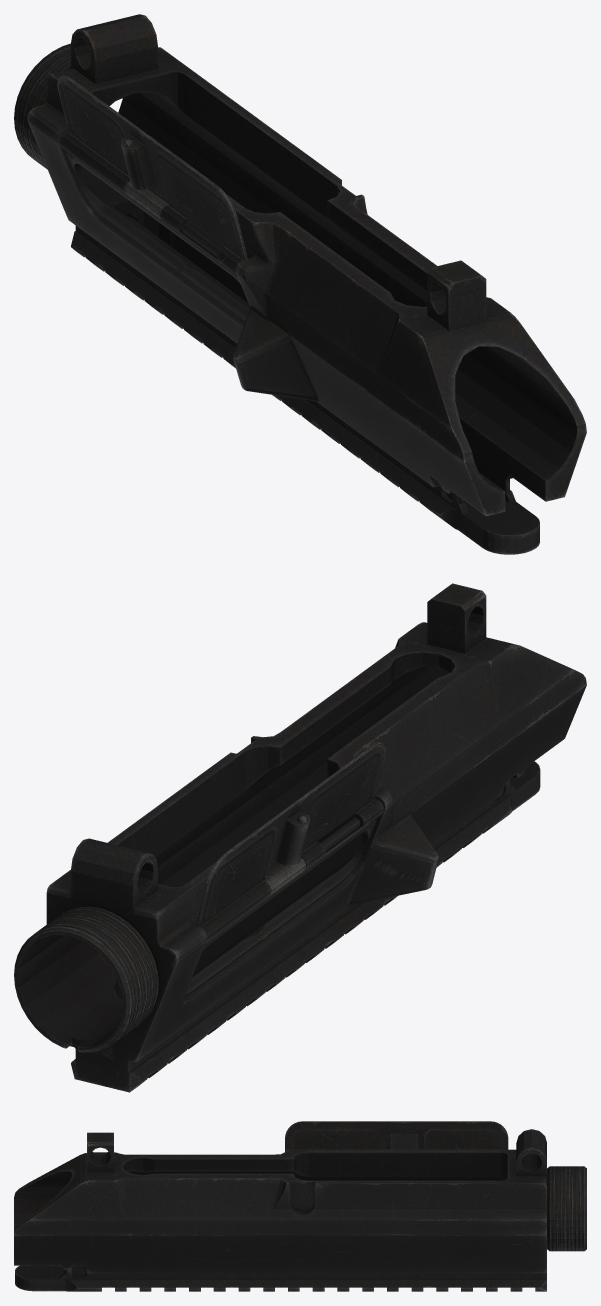
3 views of the same model, one above another, from view 1: azimuth 30°, elevation 25°; view 2: azimuth 150°, elevation 25°; view 3: azimuth 270°, elevation 25° (orthographic). The views are drawn at different scales.
Visible parts, largest first — view 1: TW_5df8e4080b92095fd441e594_PZ_Import; view 2: TW_5df8e4080b92095fd441e594_PZ_Import; view 3: TW_5df8e4080b92095fd441e594_PZ_Import.
Boxes of the visible parts, <box> form: TW_5df8e4080b92095fd441e594_PZ_Import: <box>14,14,586,554</box>; TW_5df8e4080b92095fd441e594_PZ_Import: <box>14,583,586,1092</box>; TW_5df8e4080b92095fd441e594_PZ_Import: <box>14,1121,586,1291</box>.
Bounding box in the file's own units: 0.0277 × 0.1339 × 0.0376.
Materials: 1 (1 with a texture image).
